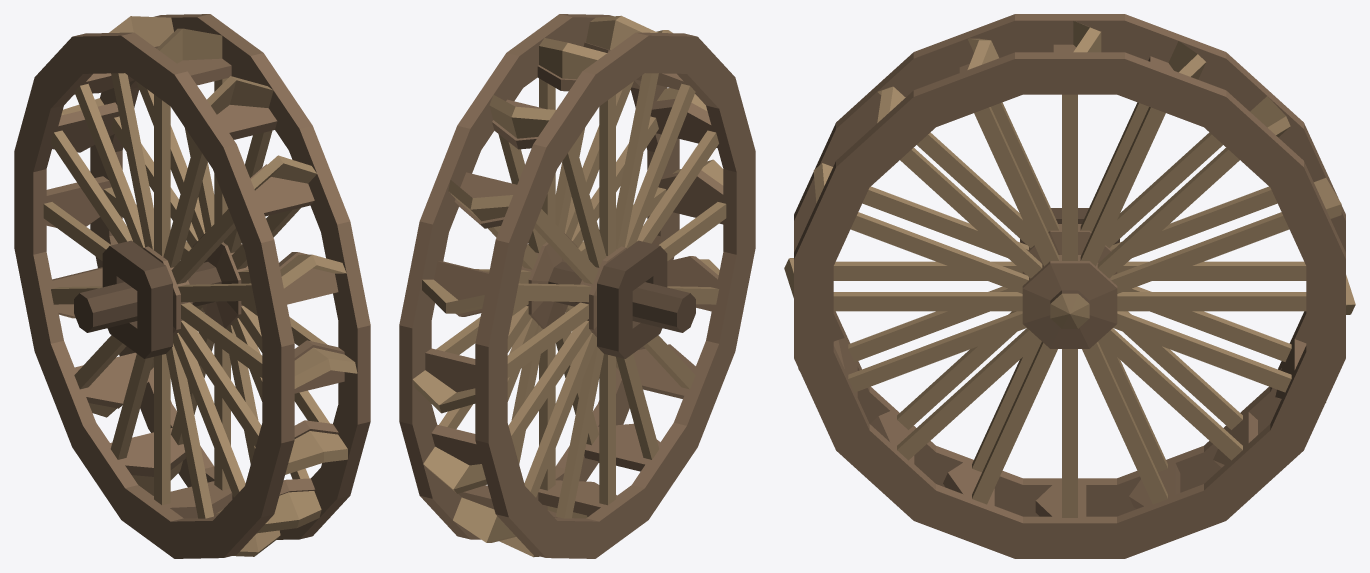
File: Waterwheel_1.glb
3 views of the same model, side by side, from view 1: azimuth 30°, elevation 25°; view 2: azimuth 150°, elevation 25°; view 3: azimuth 270°, elevation 25° (orthographic). The views are drawn at different scales.
Visible parts, largest first — view 1: Waterwheel_1; view 2: Waterwheel_1; view 3: Waterwheel_1.
Part boxes in pixels (x1,y1,x2,y2): Waterwheel_1: (14, 14, 370, 558); Waterwheel_1: (399, 14, 755, 558); Waterwheel_1: (784, 14, 1355, 558).
Bounding box in the file's own units: 1.5 × 4.4 × 4.4.
